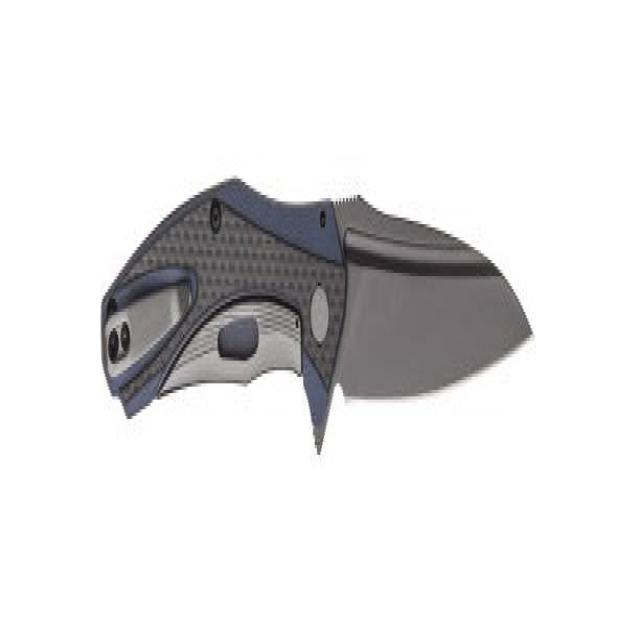knife: (94, 171, 542, 465)
